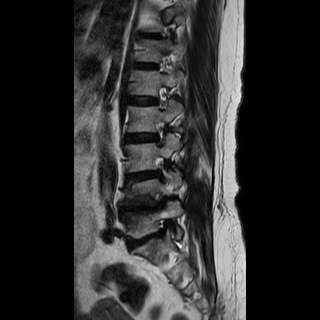RFS0: (148, 80, 176, 114), (147, 118, 175, 149)
